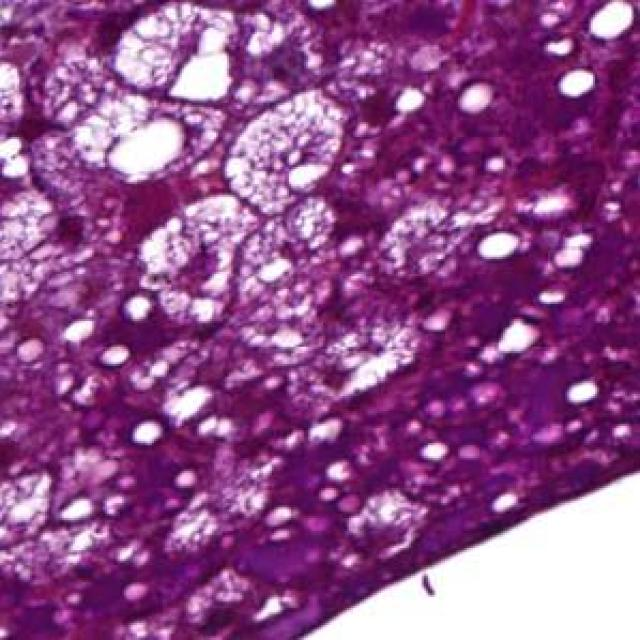ballooning: (126, 188, 270, 336), (220, 86, 347, 220), (111, 7, 244, 109)
